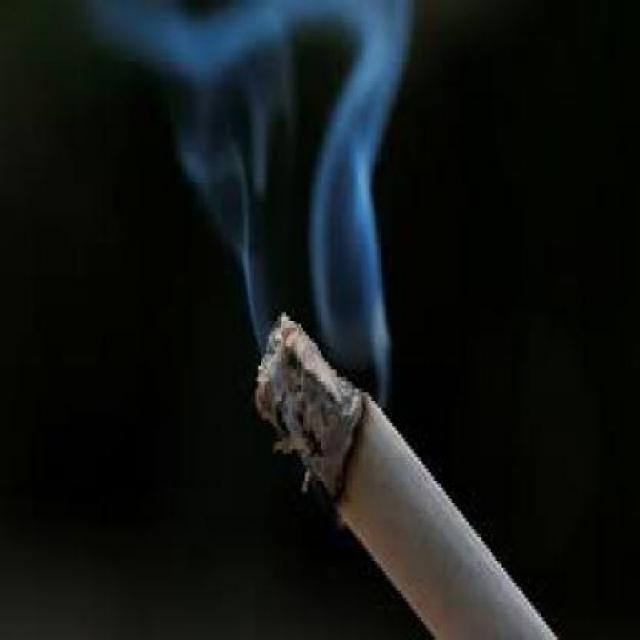cigarette: (242, 305, 576, 629)
